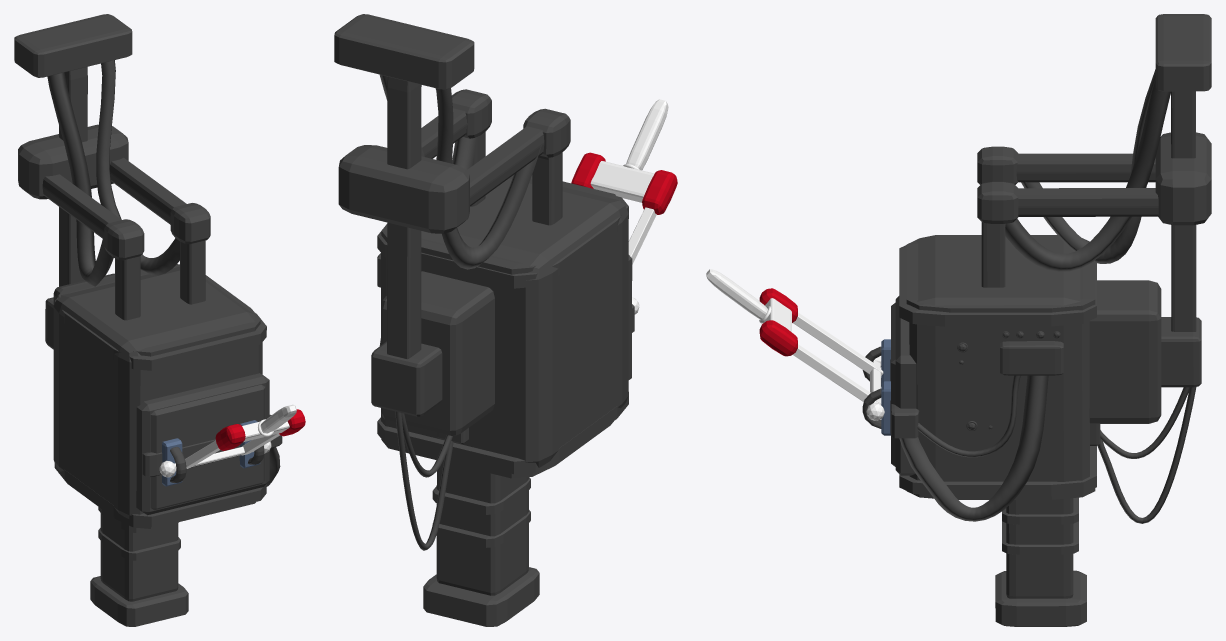
Rendered from RoE_Water_Switch3_U.fbx.
The picture shows the model from 3 angles, left to right: view 1: azimuth 30°, elevation 25°; view 2: azimuth 150°, elevation 25°; view 3: azimuth 270°, elevation 25°; orthographic projection. The views are drawn at different scales.
Visible parts, largest first — view 1: Switch_03_base, Switch_03_lever; view 2: Switch_03_base, Switch_03_lever; view 3: Switch_03_base, Switch_03_lever.
Boxes of the visible parts, left/top/right/bottom form: Switch_03_base: left=14, top=14, right=282, bottom=626; Switch_03_lever: left=159, top=404, right=305, bottom=477; Switch_03_base: left=334, top=14, right=634, bottom=626; Switch_03_lever: left=571, top=99, right=677, bottom=314; Switch_03_base: left=862, top=14, right=1211, bottom=626; Switch_03_lever: left=706, top=269, right=884, bottom=420.
Bounding box in the file's own units: 190 × 572 × 457.
